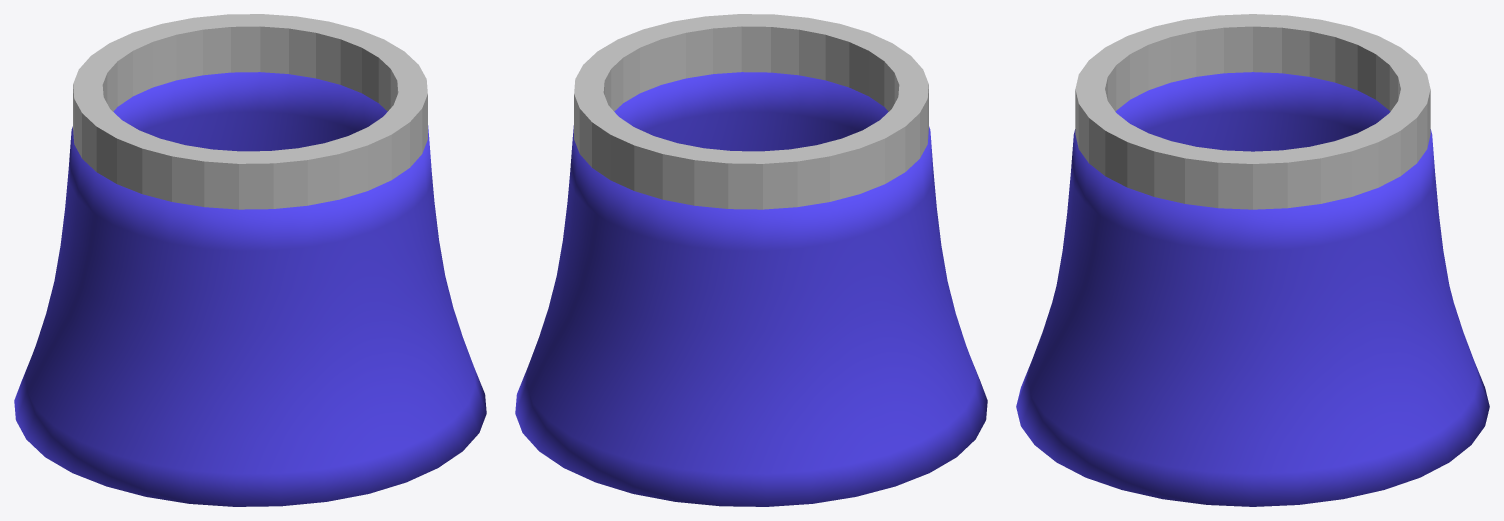
File: arm_base.dae
3 views of the same model, side by side, from view 1: azimuth 30°, elevation 25°; view 2: azimuth 150°, elevation 25°; view 3: azimuth 270°, elevation 25° (orthographic).
Parts seen in each view (by area): view 1: base; view 2: base; view 3: base.
Boxes of the visible parts, box(x1,y1,x2,y2) form: base: box(14, 14, 486, 506); base: box(515, 14, 987, 506); base: box(1016, 14, 1489, 506).
Bounding box in the file's own units: 0.1601 × 0.1601 × 0.1219.
